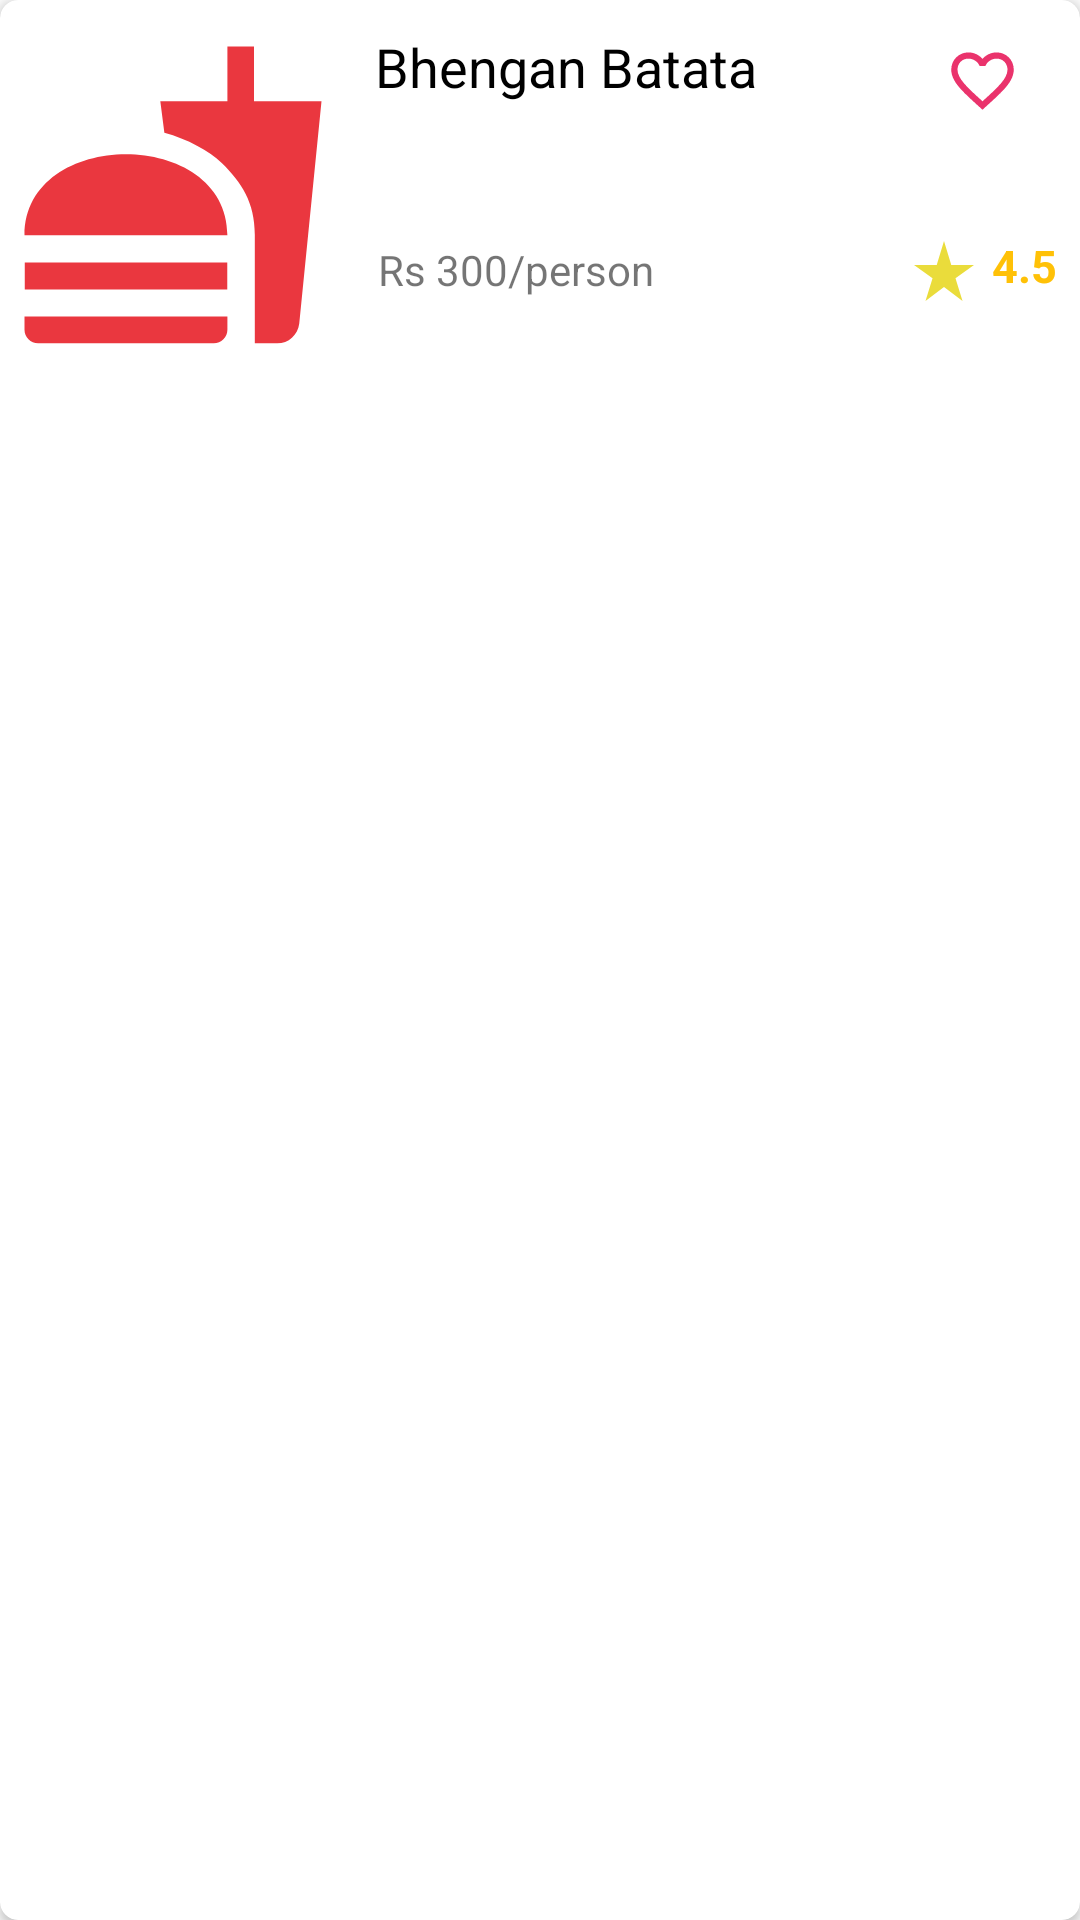

Screen size 1080px x 1920px. Icon name, then its box in pixels as (left=x1, top=y1, right=x2, bottom=y2):
fav: (left=951, top=52, right=1014, bottom=110)
restaurant: (left=24, top=46, right=322, bottom=344)
